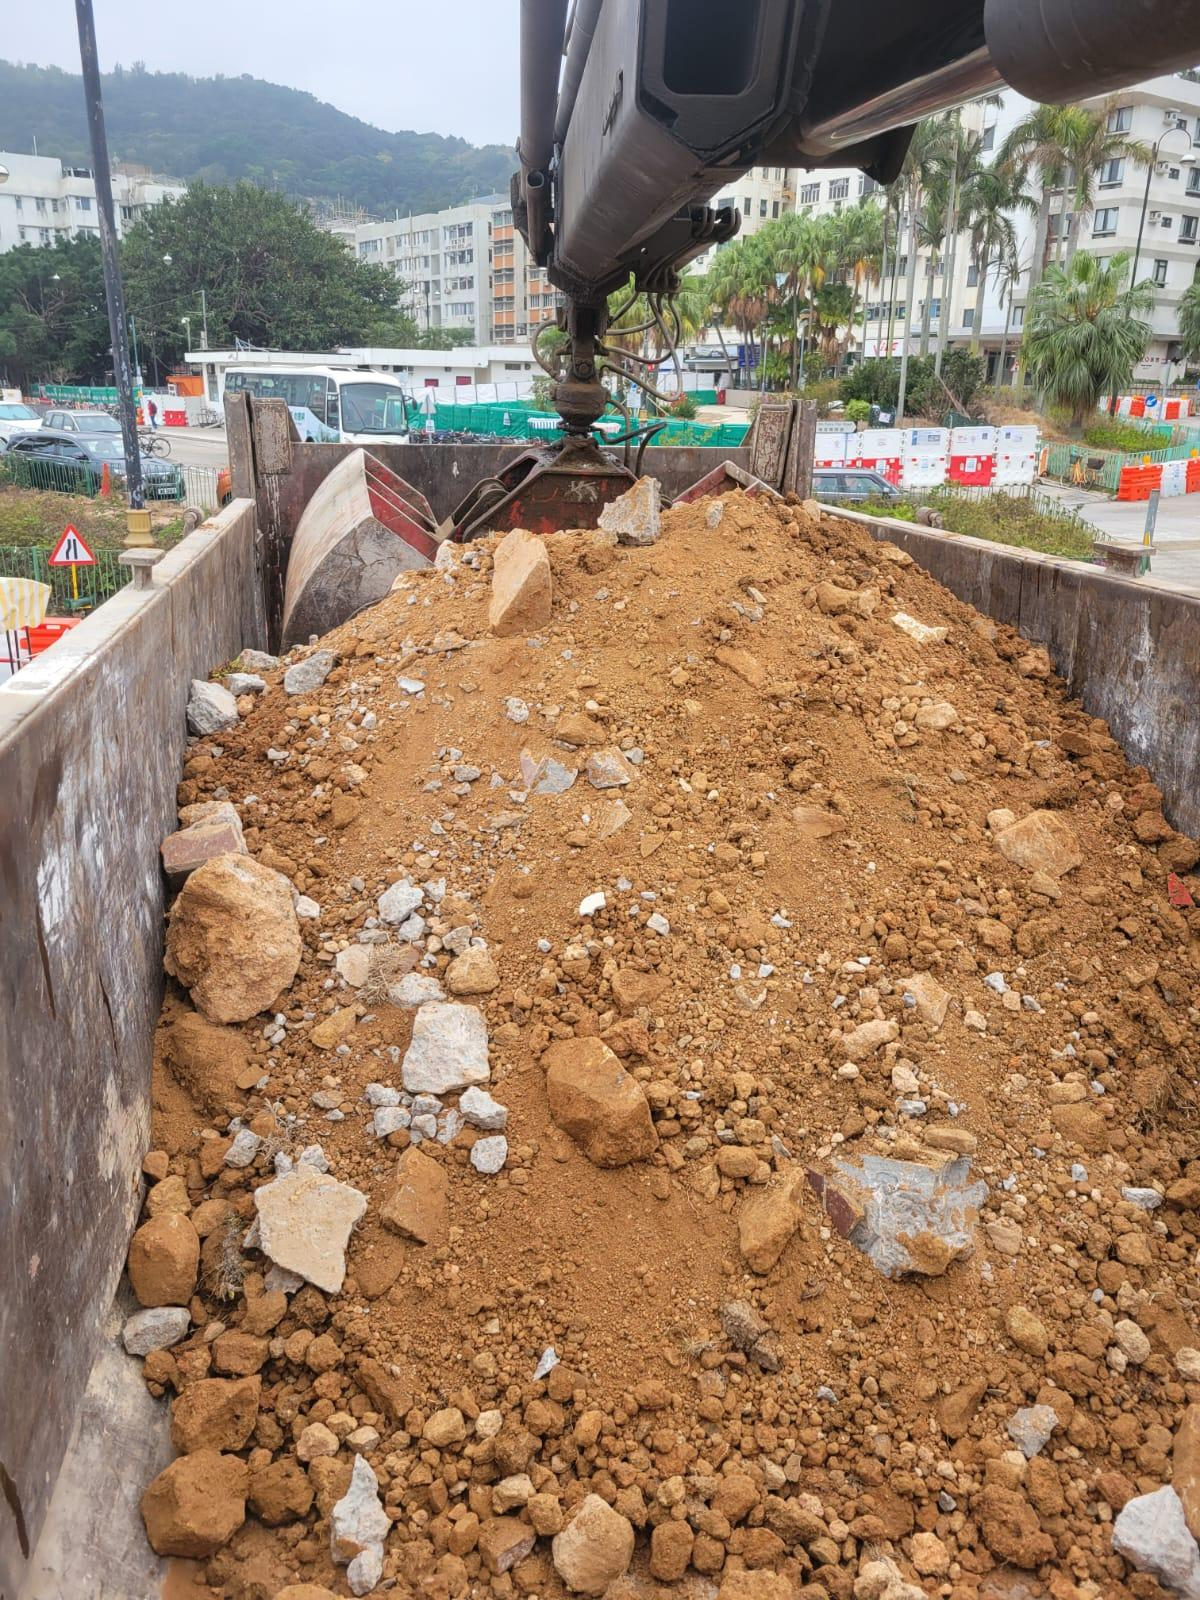dry: (163, 503, 1197, 1600)
